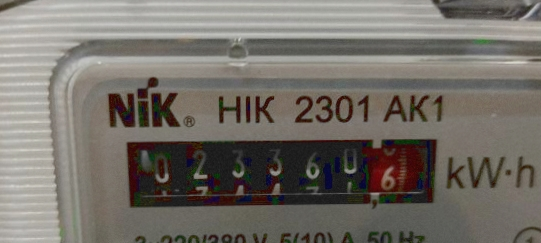0: (150, 151, 171, 184), (341, 144, 358, 175)
2: (188, 147, 211, 181)
3: (226, 147, 247, 179), (265, 145, 284, 176)
6: (301, 148, 321, 180), (376, 162, 397, 191)
screen: (107, 120, 451, 222)
